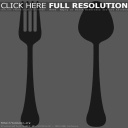fork: (11, 1, 53, 128)
